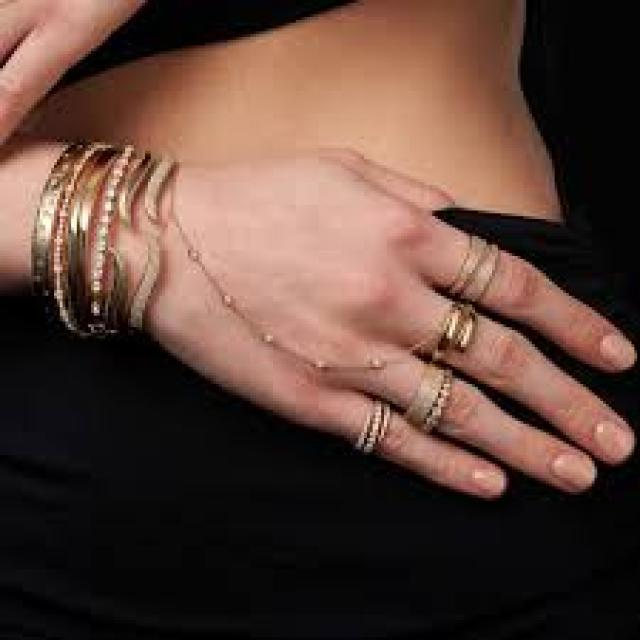Nail: (588, 415, 635, 462), (550, 449, 597, 492), (597, 329, 636, 370), (471, 465, 509, 498)
